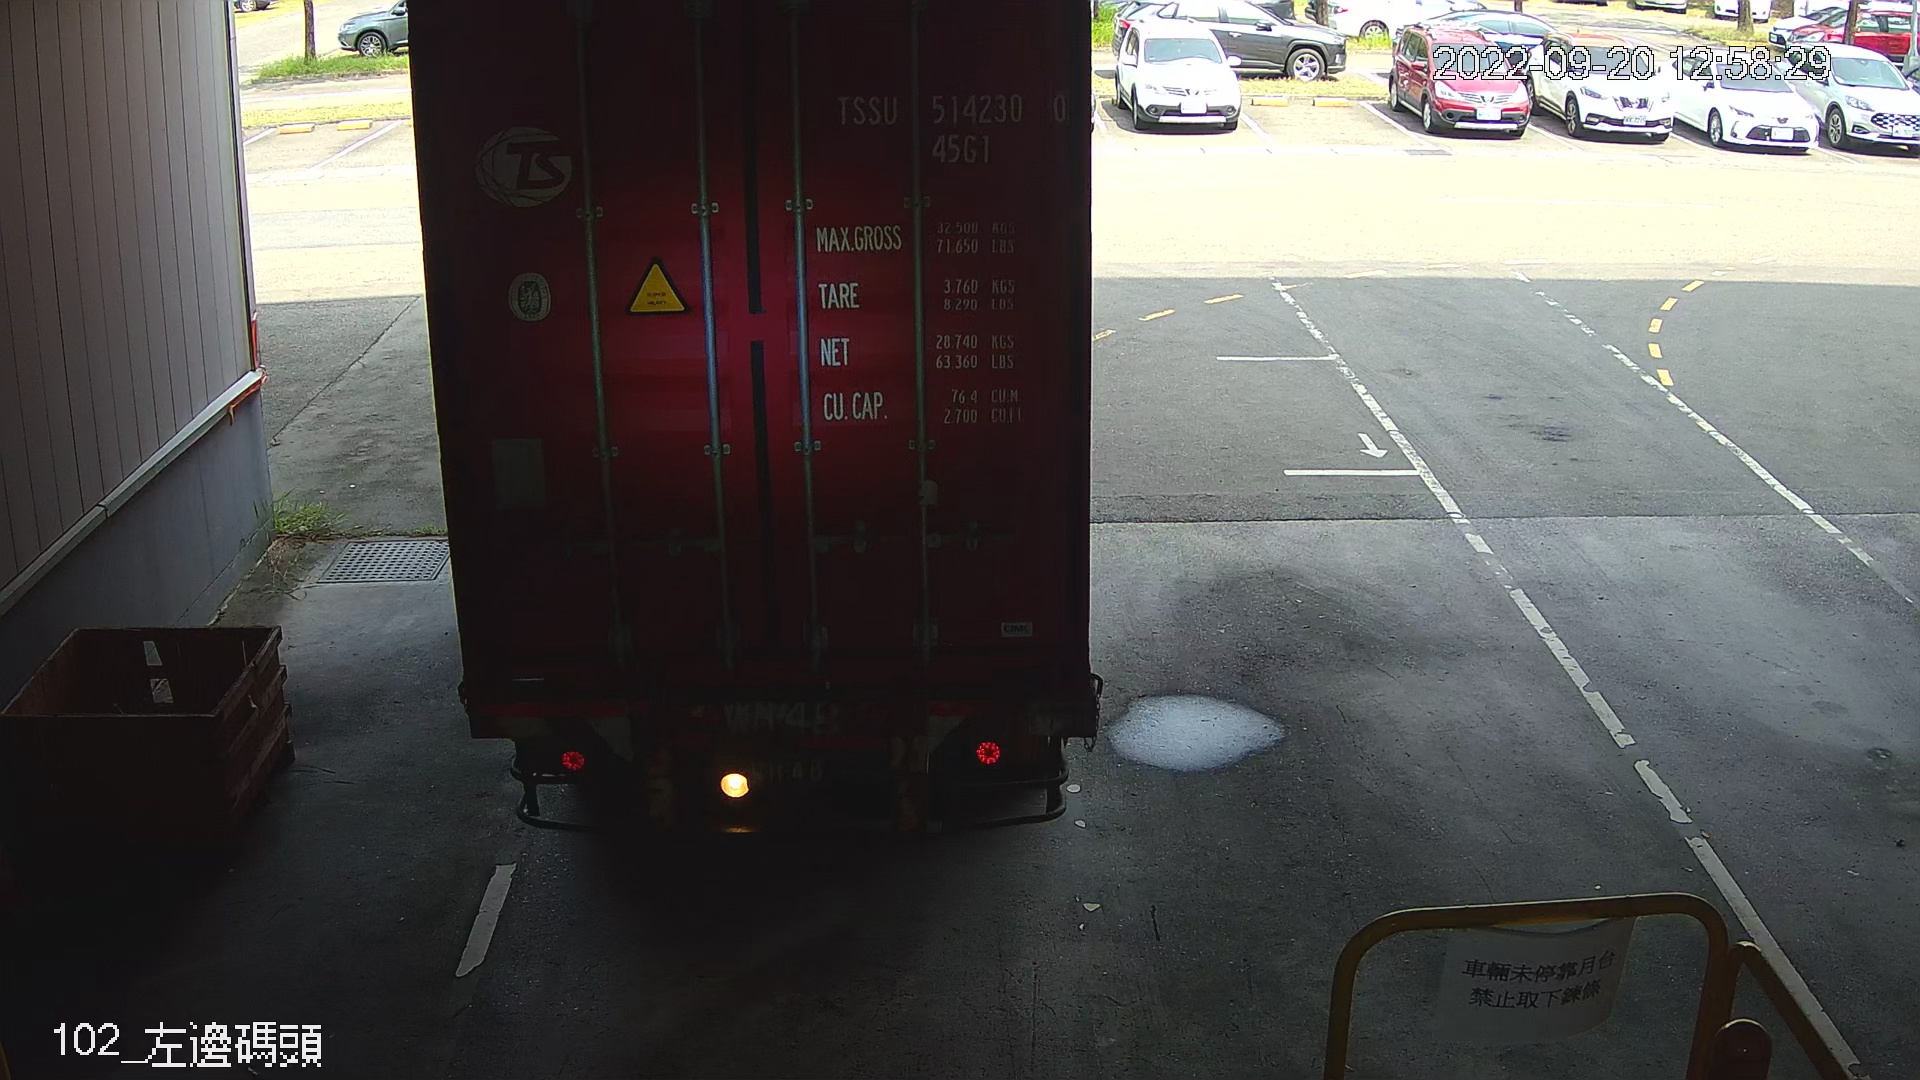container: (820, 83, 1081, 171)
